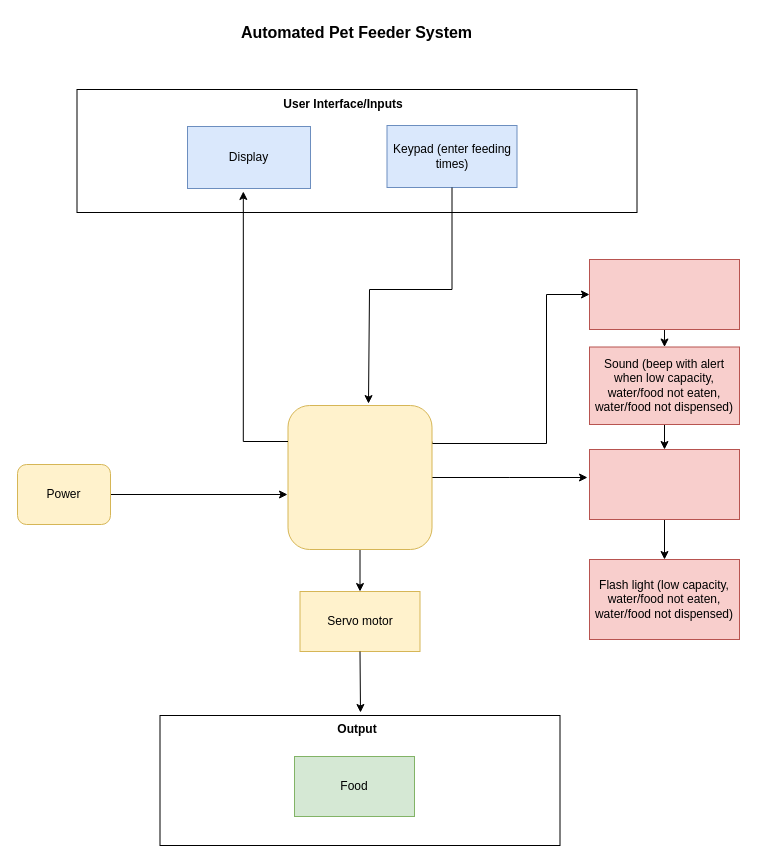
This 757x863 diagram has some shape labels left out. Here are the shapes that lost their labels. From the top down, the centre of each, then its label:
At pixel 664 294: "Alert System".
At pixel 359 477: "Programmable chip".
At pixel 664 484: "Weight sensor system".
